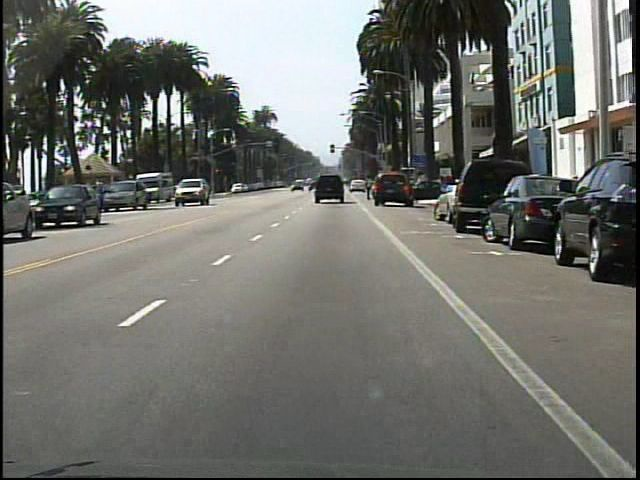person: (363, 173, 377, 204)
